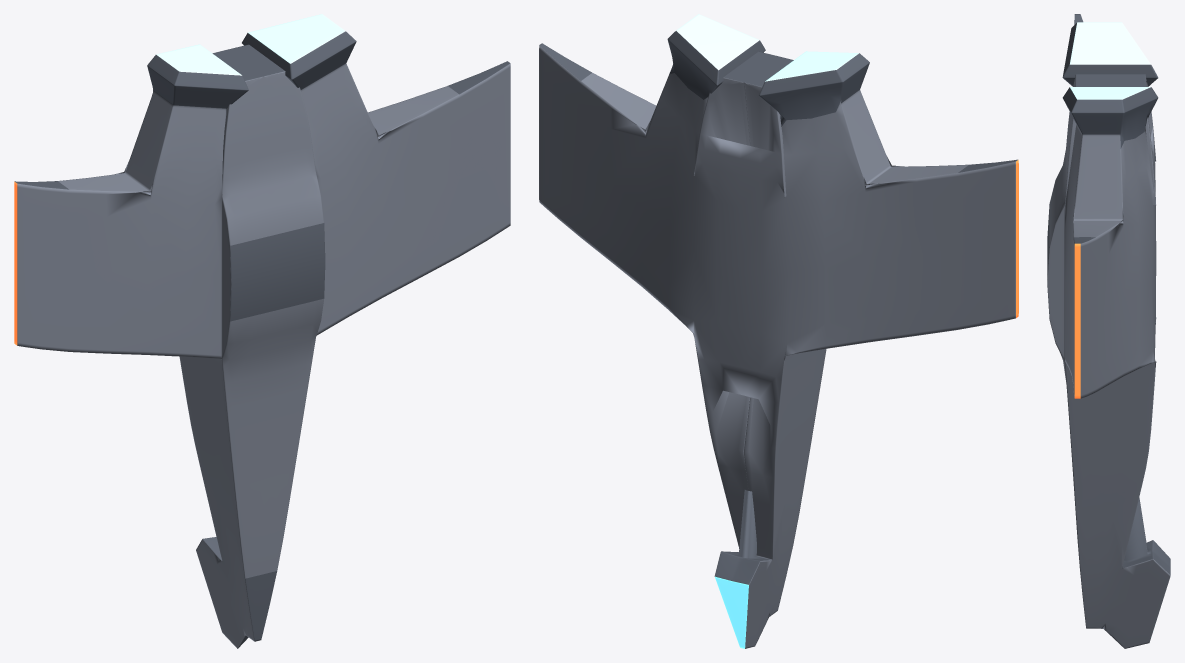
The model's file is player_ship.glb.
3 renders of one model, left to right at view 1: azimuth 30°, elevation 25°; view 2: azimuth 150°, elevation 25°; view 3: azimuth 270°, elevation 25°, orthographic. The views are drawn at different scales.
Visible parts, largest first — view 1: PlayerShip; view 2: PlayerShip; view 3: PlayerShip.
Boxes of the visible parts, bbox=[...] form: PlayerShip: bbox=[14, 14, 510, 648]; PlayerShip: bbox=[539, 14, 1018, 648]; PlayerShip: bbox=[1047, 14, 1170, 648].
Size of the model in its own units: 4.45 by 5.31 by 1.01.
